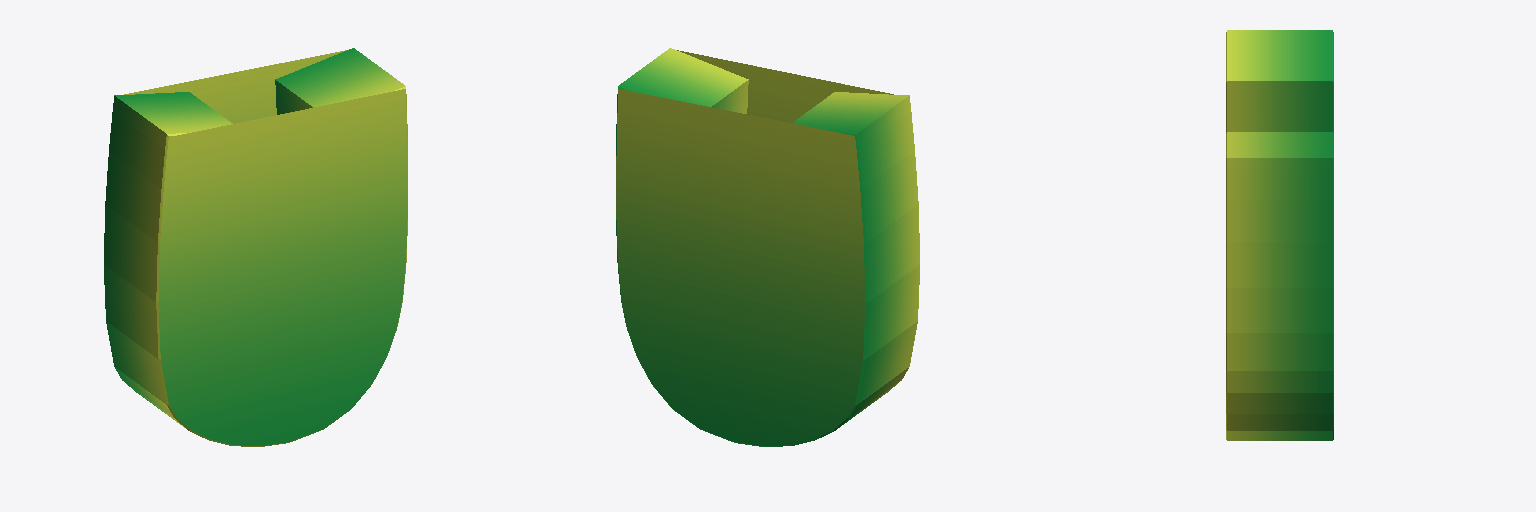
The picture shows the model from 3 angles: view 1: azimuth 30°, elevation 25°; view 2: azimuth 150°, elevation 25°; view 3: azimuth 270°, elevation 25°; orthographic projection.
Parts seen in each view (by area): view 1: polySurface23; view 2: polySurface23; view 3: polySurface23.
Boxes of the visible parts, x1,y1,x2,y2 form: polySurface23: [104, 48, 407, 446]; polySurface23: [616, 48, 919, 446]; polySurface23: [1226, 30, 1333, 440].
Size of the model in its own units: 1.77 by 2.27 by 0.6578.
Materials: 1 (1 with a texture image).